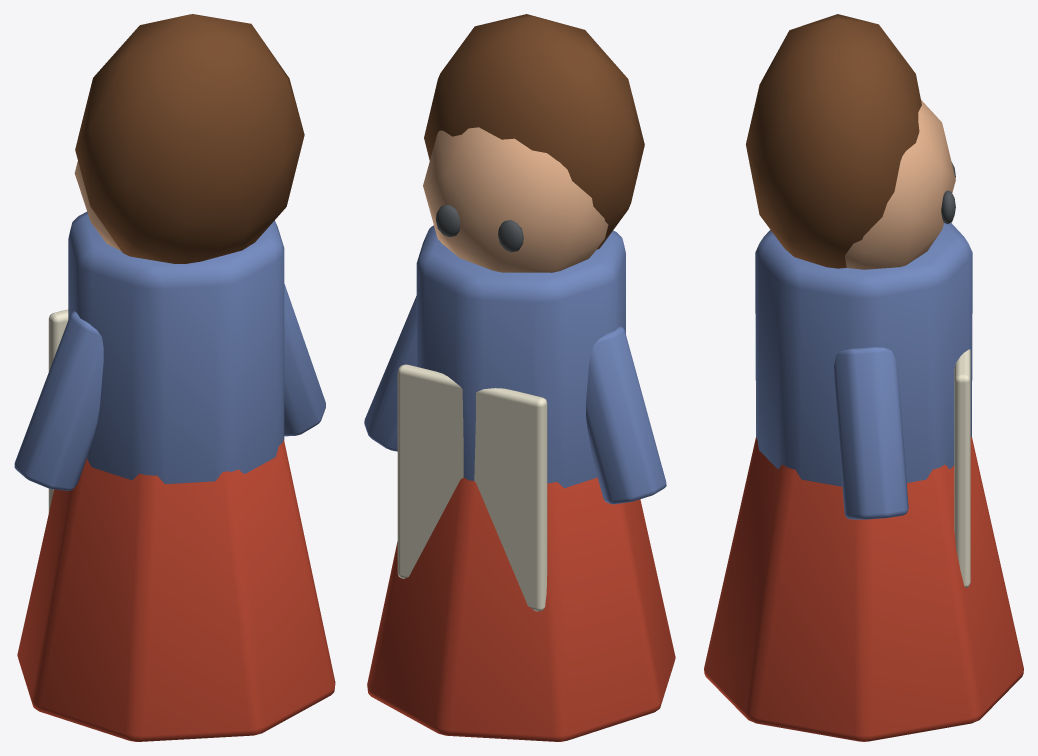
The model's file is woman.glb.
3 views of the same model, side by side, from view 1: azimuth 30°, elevation 25°; view 2: azimuth 150°, elevation 25°; view 3: azimuth 270°, elevation 25° (orthographic). The views are drawn at different scales.
Parts seen in each view (by area): view 1: woman_dress, woman_torso, woman_hair, woman_arm_-1, woman, woman_apron, woman_head; view 2: woman_dress, woman_torso, woman_hair, woman_apron, woman_head, woman_arm_-1, woman, woman_eye_L, woman_eye_R; view 3: woman_dress, woman_torso, woman_hair, woman, woman_head, woman_apron.
Part boxes in pixels (x1,y1,x2,y2): woman_dress: [17, 439, 335, 741]; woman_torso: [68, 212, 284, 484]; woman_hair: [75, 14, 304, 263]; woman_arm_-1: [14, 311, 103, 490]; woman: [284, 284, 325, 436]; woman_apron: [48, 309, 68, 512]; woman_head: [74, 161, 120, 250]; woman_dress: [367, 477, 675, 741]; woman_torso: [416, 225, 625, 488]; woman_hair: [424, 14, 644, 249]; woman_apron: [397, 364, 547, 611]; woman_head: [423, 127, 608, 272]; woman_arm_-1: [586, 326, 666, 504]; woman: [364, 296, 416, 451]; woman_eye_L: [498, 220, 523, 252]; woman_eye_R: [436, 204, 459, 237]; woman_dress: [704, 436, 1023, 741]; woman_torso: [755, 223, 972, 486]; woman_hair: [746, 14, 921, 268]; woman: [834, 347, 908, 519]; woman_head: [845, 100, 955, 269]; woman_apron: [954, 349, 970, 587].
Size of the model in its own units: 1.03 by 2.27 by 0.9741.
